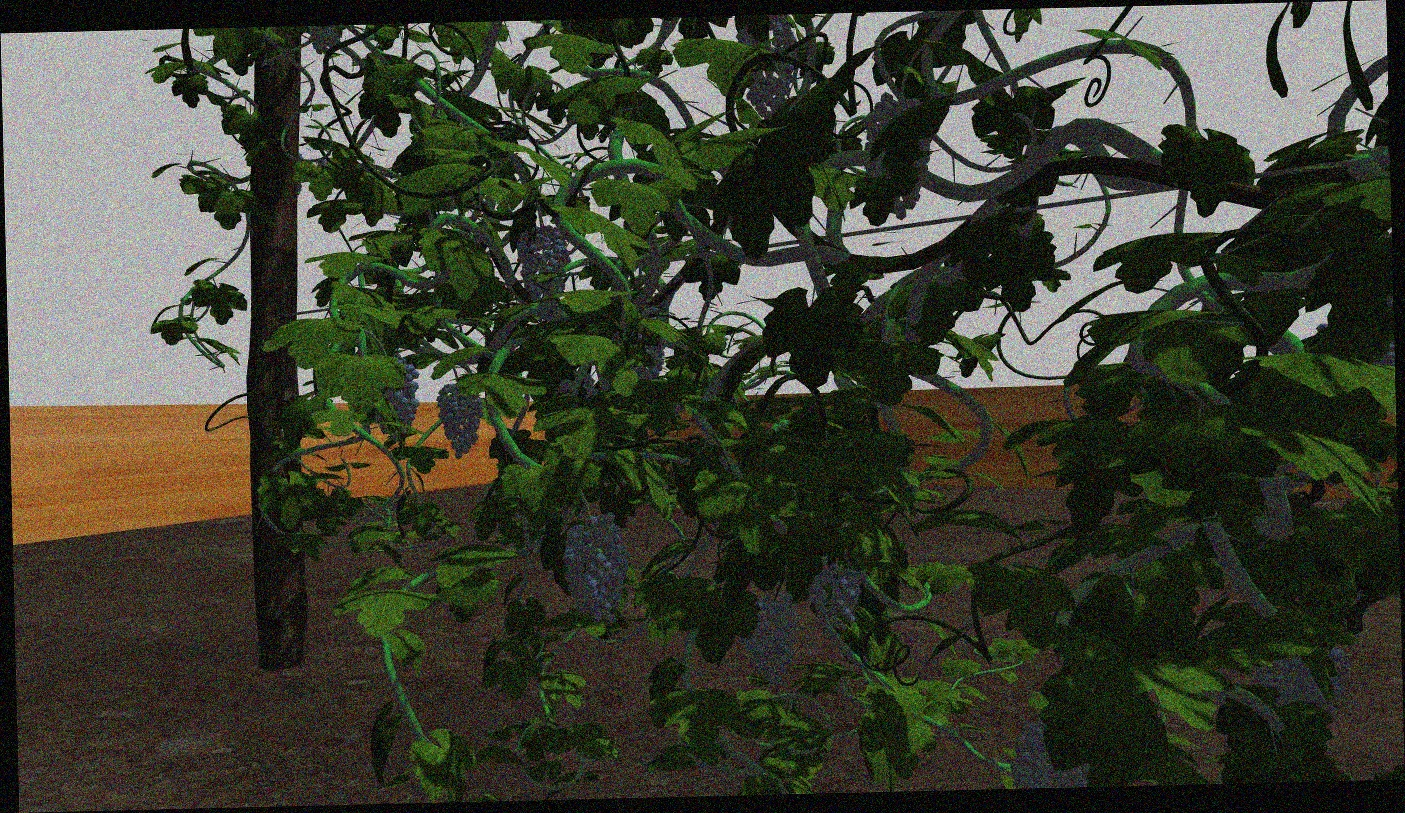grape: (561, 513, 629, 626), (741, 594, 803, 686), (518, 223, 574, 299), (807, 560, 864, 633), (373, 360, 422, 438), (438, 380, 483, 459)
